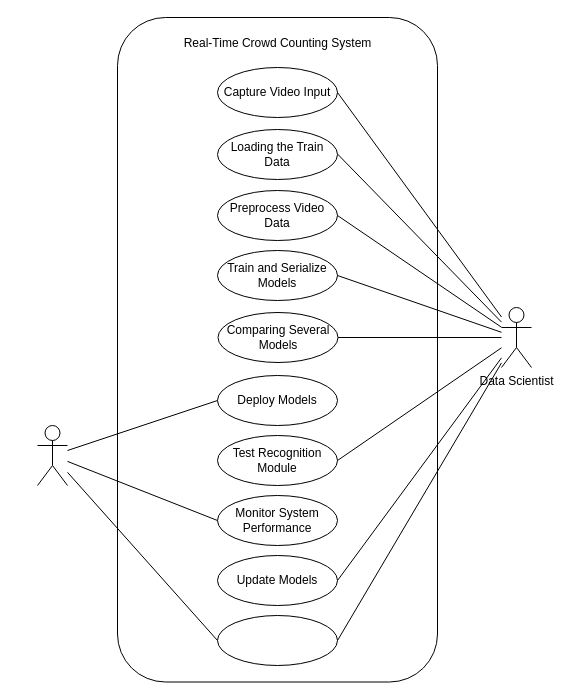
Some shapes in this 571 by 700 pixel diagram are drawn without their labels. Each missing label, with the centre of its shape:
Administrator: point (52, 455)
Manage Data: point (277, 640)
